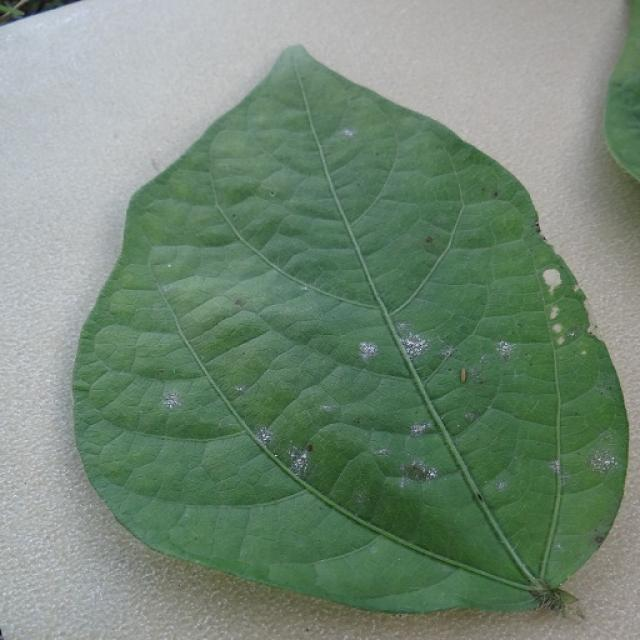Blackgram: (75, 48, 628, 611)
Powdery_Mildew: (396, 321, 433, 363), (396, 457, 439, 487), (461, 360, 491, 388), (287, 445, 311, 477), (588, 451, 615, 472), (541, 267, 562, 292), (358, 341, 378, 361), (496, 340, 514, 358), (162, 392, 181, 409), (595, 381, 613, 396), (257, 429, 272, 444), (440, 346, 455, 360), (548, 460, 562, 475), (410, 423, 425, 436), (321, 404, 338, 414), (354, 491, 367, 504), (340, 127, 355, 138), (549, 306, 560, 320), (373, 448, 389, 457), (464, 412, 476, 423), (552, 323, 563, 335), (397, 322, 410, 332), (398, 476, 407, 489), (496, 481, 507, 491), (234, 385, 246, 394), (162, 284, 173, 293), (556, 336, 565, 345), (568, 330, 577, 338), (301, 286, 309, 292), (167, 264, 172, 268)
